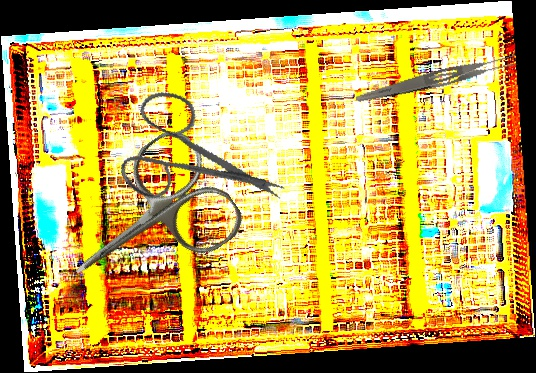Dressing Forceps: (354, 49, 520, 111)
Iris Scissors: (39, 122, 251, 323), (101, 63, 291, 243)
